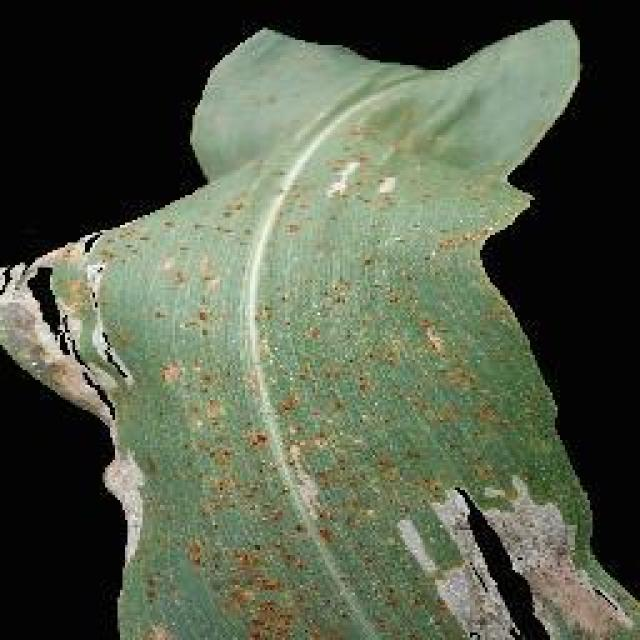Corn Common Rust: (28, 191, 589, 640)
